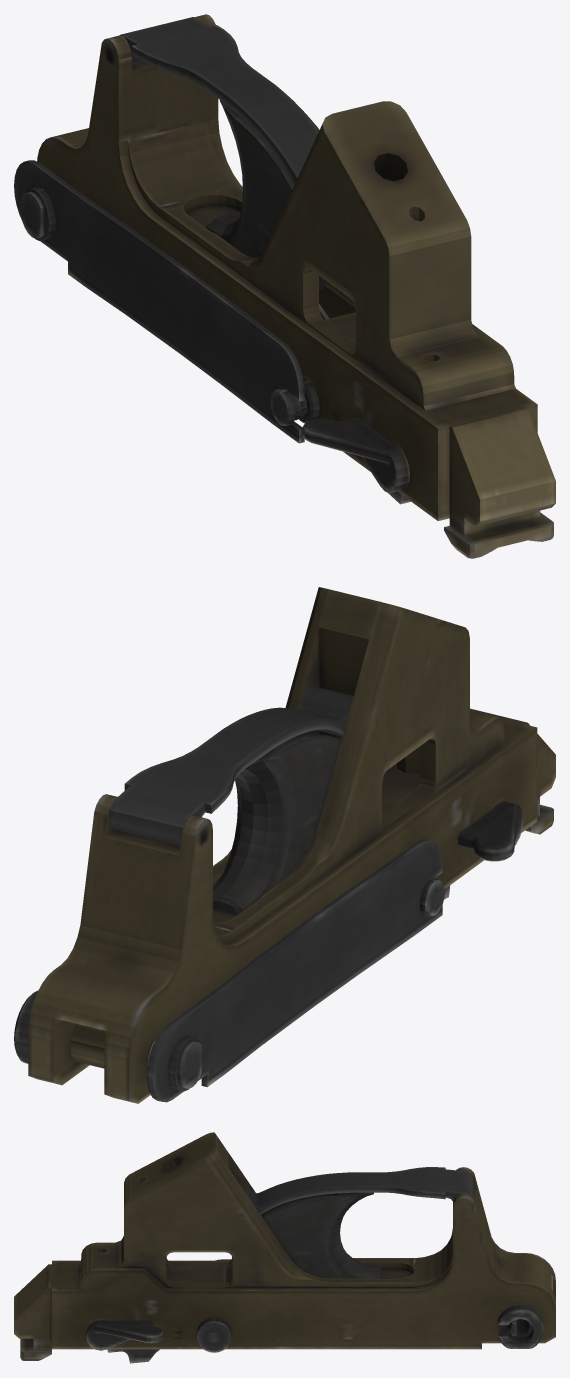
3 views of the same model, one above another, from view 1: azimuth 30°, elevation 25°; view 2: azimuth 150°, elevation 25°; view 3: azimuth 270°, elevation 25° (orthographic). The views are drawn at different scales.
Parts seen in each view (by area): view 1: TW_66152153a031cbb5570e346f_PZ_Import; view 2: TW_66152153a031cbb5570e346f_PZ_Import; view 3: TW_66152153a031cbb5570e346f_PZ_Import.
Part boxes in pixels (<box>): TW_66152153a031cbb5570e346f_PZ_Import: <box>14,14,555,558</box>; TW_66152153a031cbb5570e346f_PZ_Import: <box>14,587,555,1103</box>; TW_66152153a031cbb5570e346f_PZ_Import: <box>14,1132,555,1363</box>.
Bounding box in the file's own units: 0.0253 × 0.0909 × 0.0396.
Materials: 1 (1 with a texture image).
